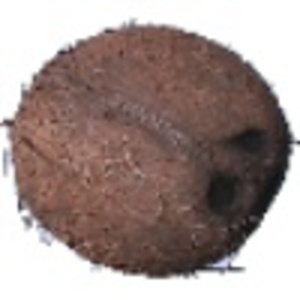coco: (1, 19, 300, 279)
